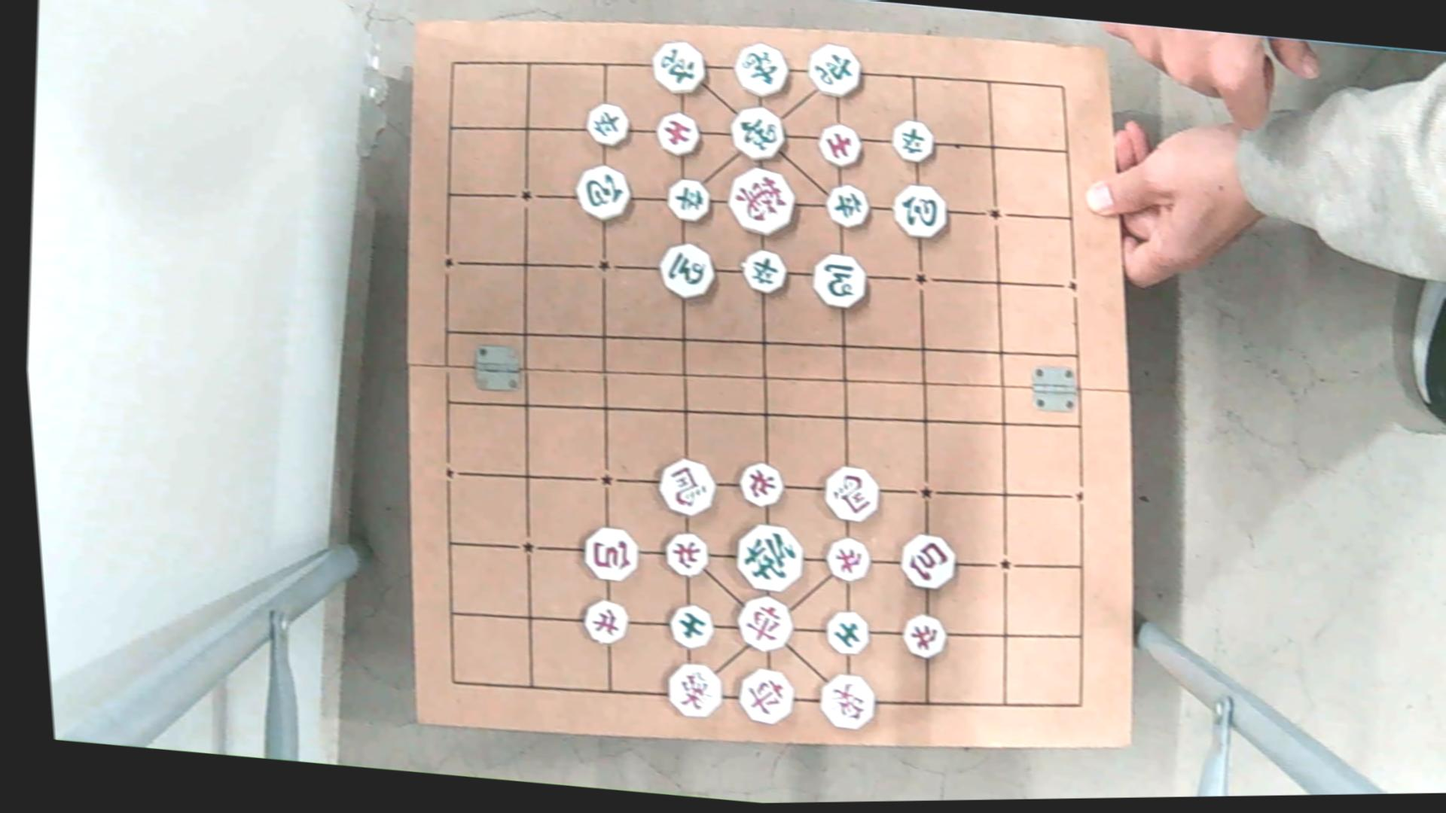cha_green: (645, 38, 710, 92), (801, 42, 867, 95)
cha_red: (731, 668, 801, 726), (733, 597, 801, 649)
jol_green: (736, 246, 790, 297), (819, 185, 874, 230), (660, 177, 716, 221), (578, 102, 632, 145), (886, 121, 938, 164)
jol_red: (733, 462, 789, 507), (898, 615, 953, 659), (577, 600, 633, 643), (660, 531, 709, 580), (823, 537, 874, 581)
ma_green: (653, 242, 722, 300), (805, 254, 870, 307)
ma_red: (817, 465, 885, 523), (653, 461, 720, 516)
po_green: (886, 185, 953, 242), (570, 166, 636, 222)
po_red: (896, 533, 964, 590), (578, 528, 644, 583)
sa_green: (663, 604, 718, 648), (821, 611, 876, 654)
sa_red: (649, 112, 705, 156), (812, 123, 865, 166)
sang_green: (721, 105, 789, 160), (730, 42, 797, 96)
sang_red: (657, 663, 726, 719), (814, 674, 882, 730)
wang_green: (730, 525, 810, 592)
wang_red: (718, 166, 801, 238)
